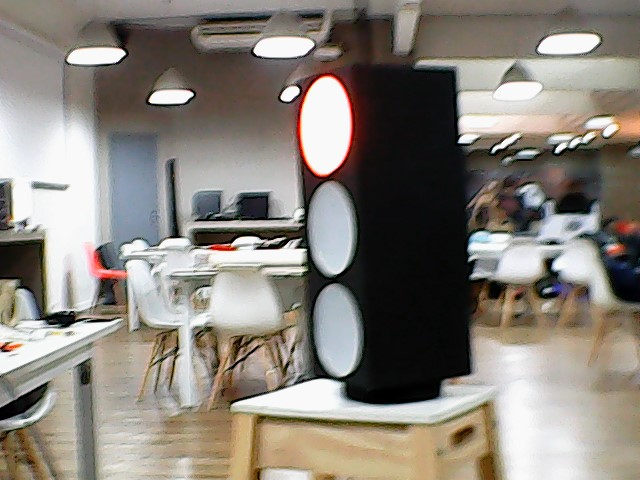vermelho: (289, 70, 488, 382)
